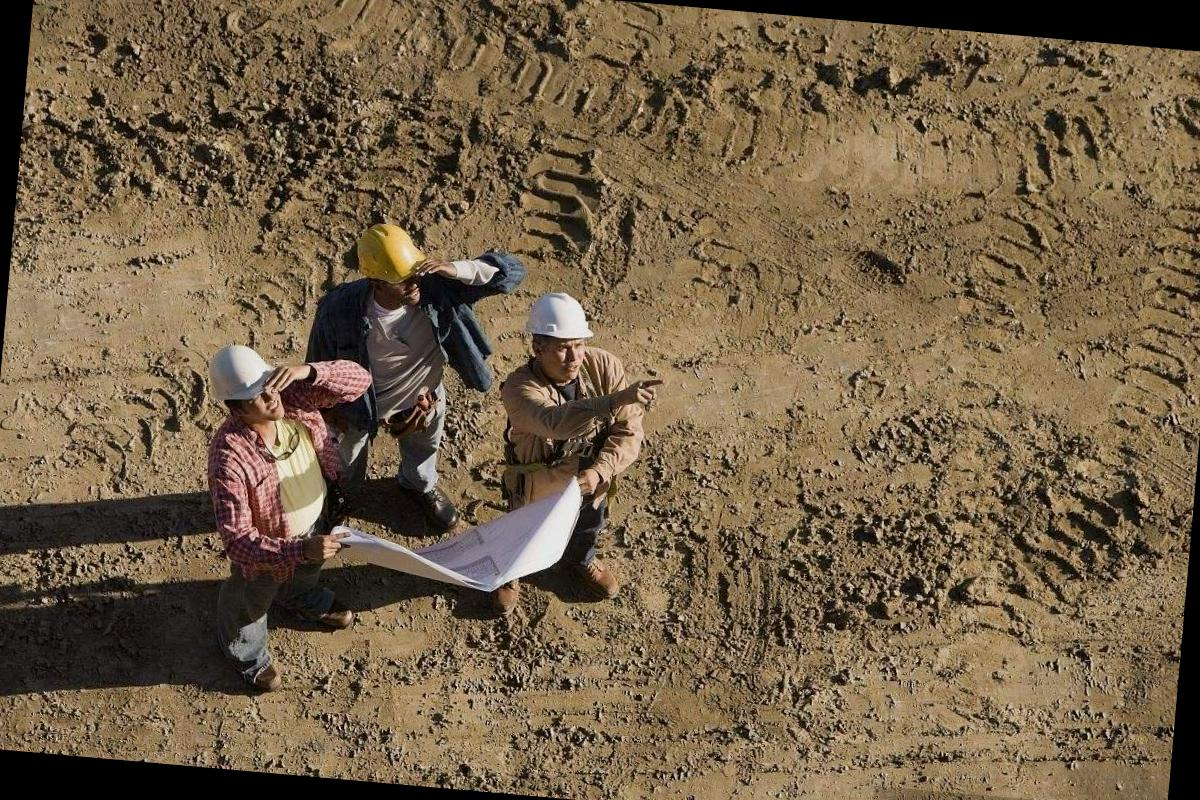helmet: (514, 284, 604, 348), (204, 338, 280, 408)
no_vest: (502, 356, 628, 503), (224, 422, 328, 580)
person: (164, 338, 365, 705), (476, 285, 651, 650)
